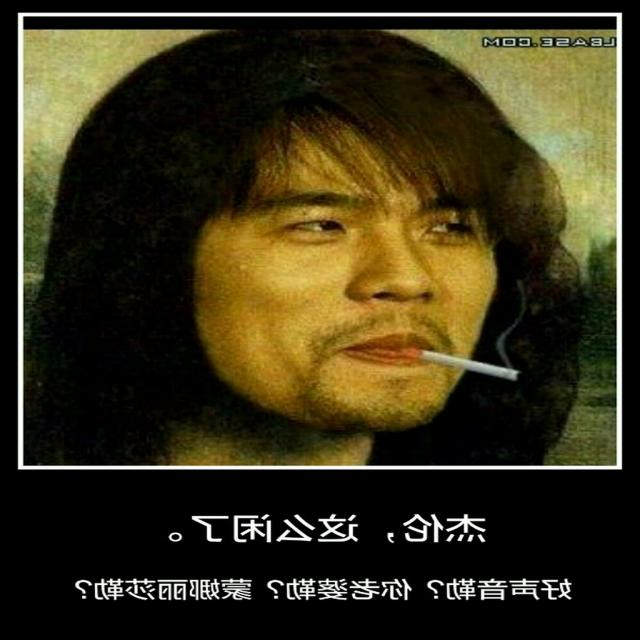smoking: (200, 99, 523, 417)
